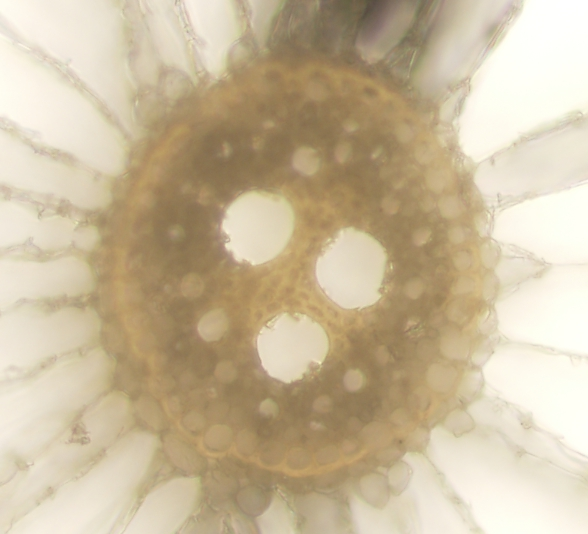lm: (314, 227, 388, 308), (221, 188, 295, 266), (256, 311, 329, 382)
